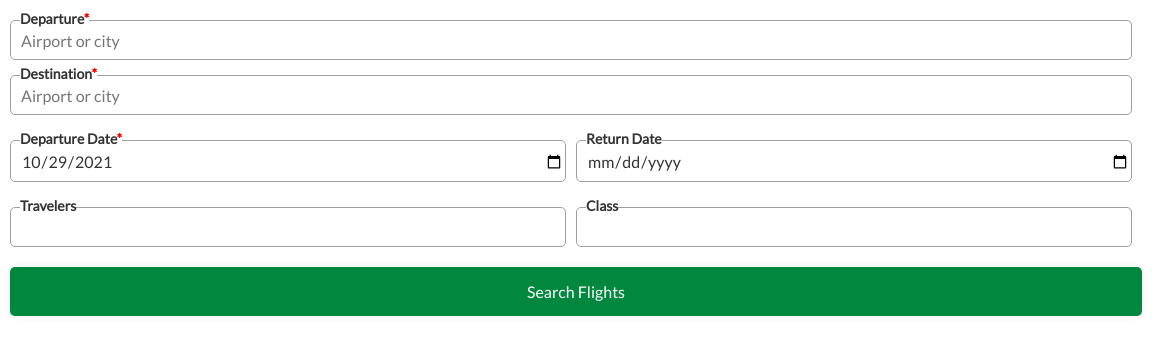
SearchFlight tab : › There should be warning if form is not filled and search button is clicked
Step 1. Click the button with test id "search-flights" → (576, 292), box left=10, top=267, right=1142, bottom=316
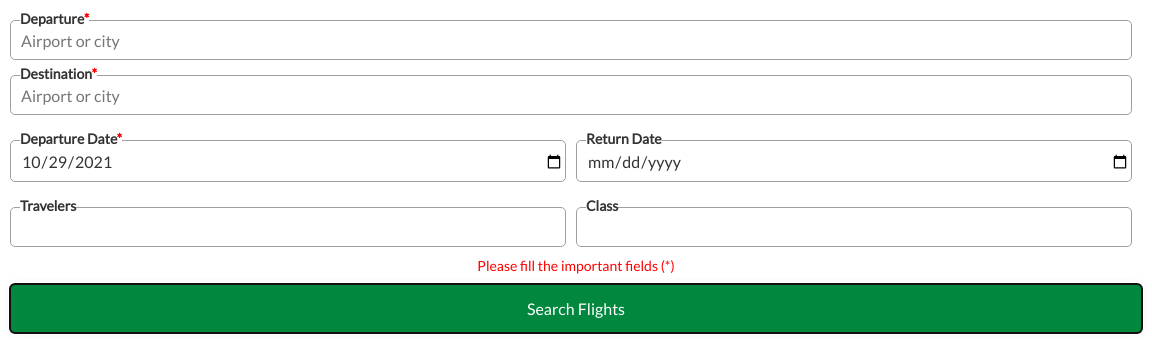
expect the text "Please fill the important fields (*)" is shown: met, box left=477, top=257, right=675, bottom=274
